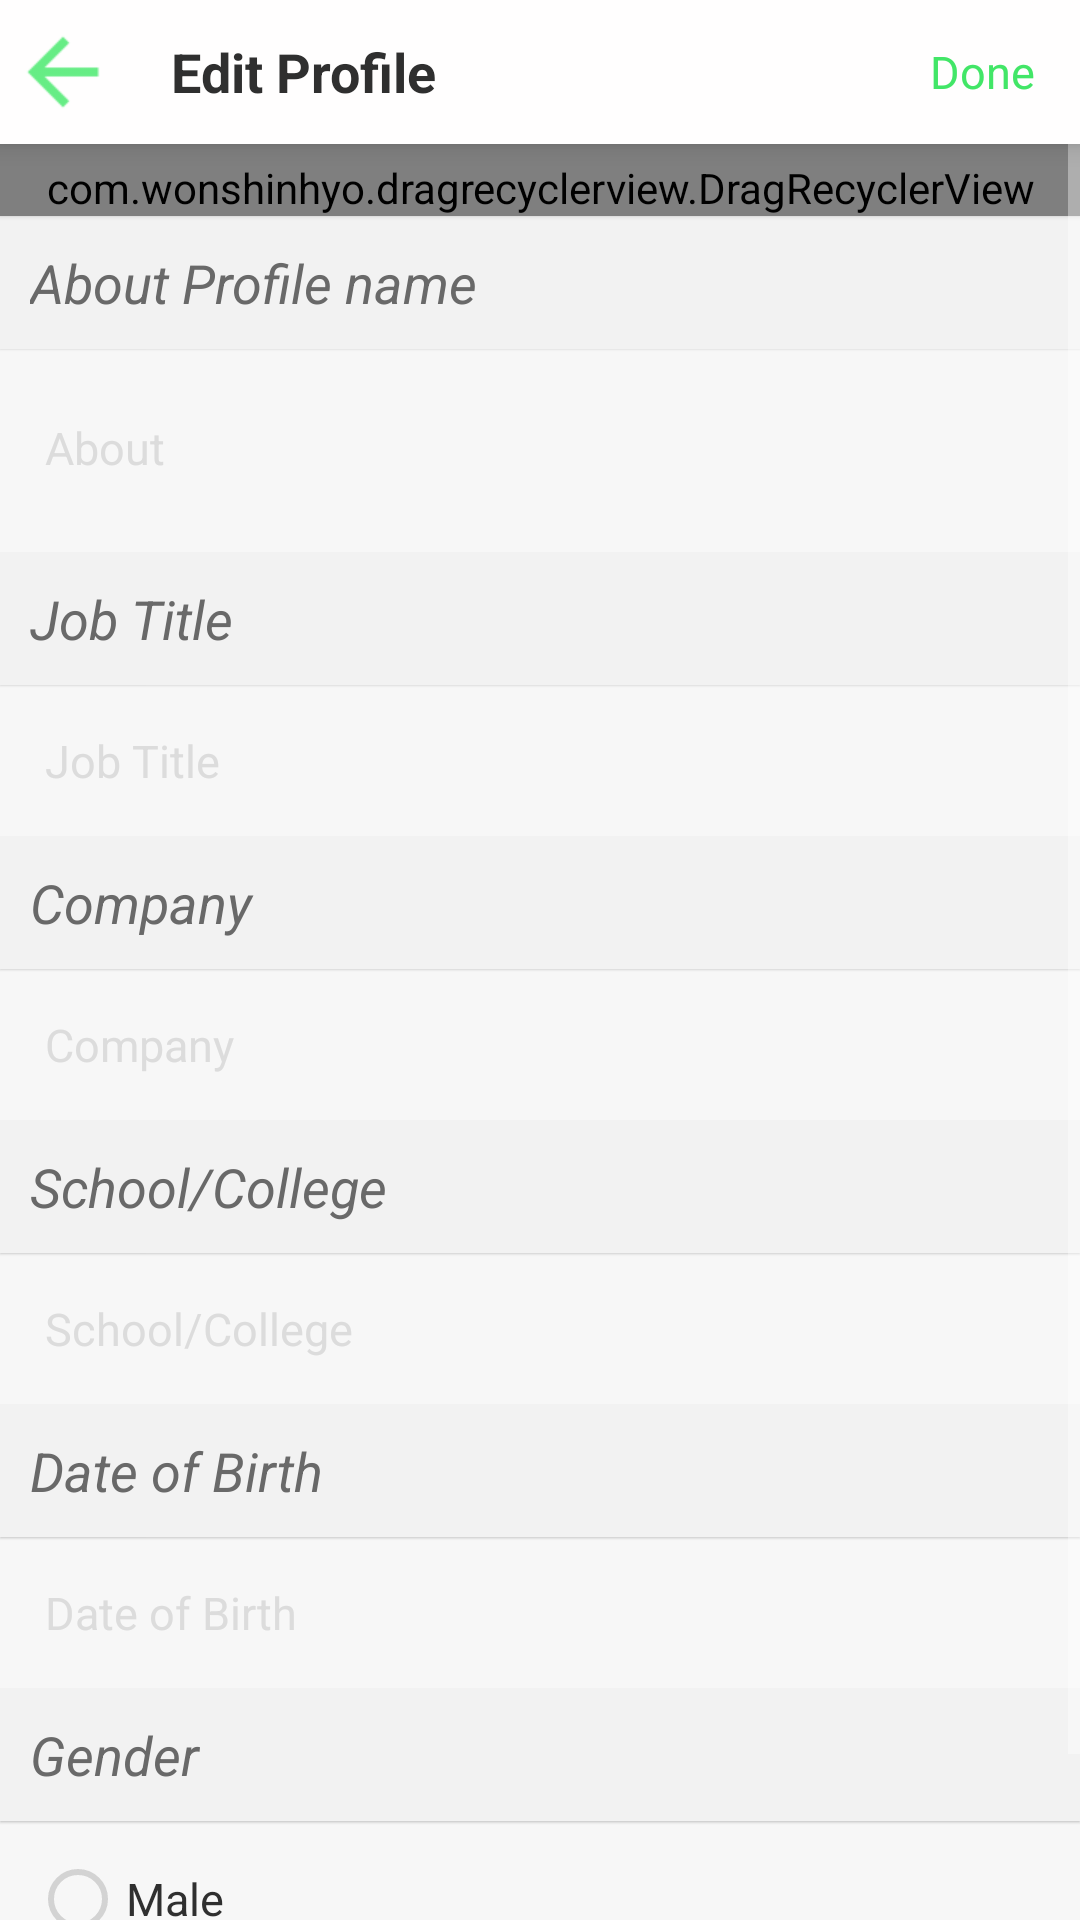

Icons on this 1080×1920 Android screen, each with its box as bbox=(x1, y1, x2, y2):
back: bbox=(28, 37, 99, 107)
